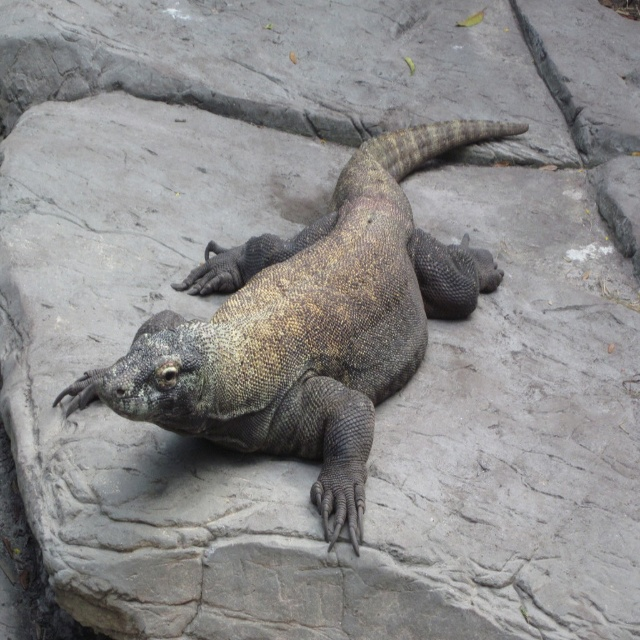Lizard: (47, 98, 504, 577)
